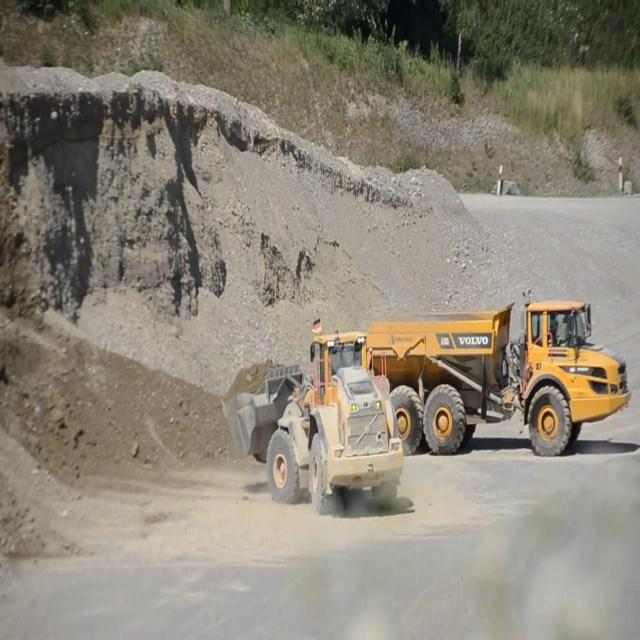Dump Truck: (362, 296, 632, 458)
Loader: (217, 329, 405, 518)
